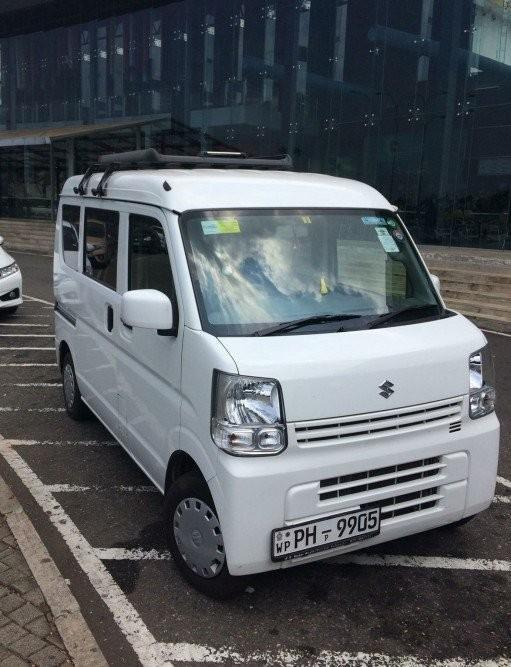license-plate: (267, 507, 384, 554)
